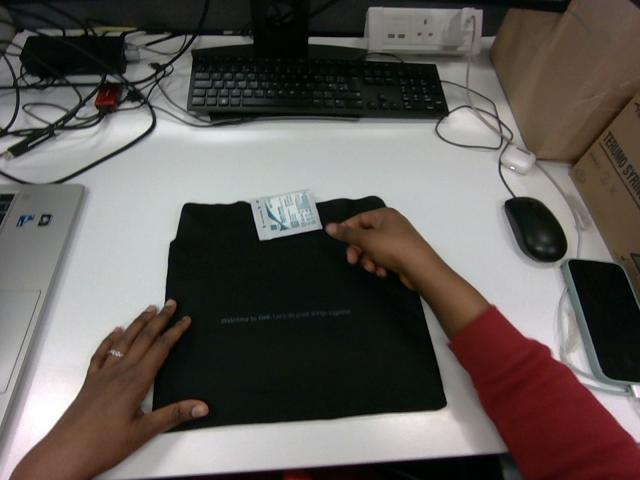gauze: (250, 190, 321, 240)
